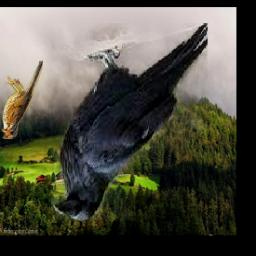Crow: (51, 23, 208, 221)
Sparrow: (2, 61, 43, 139)
